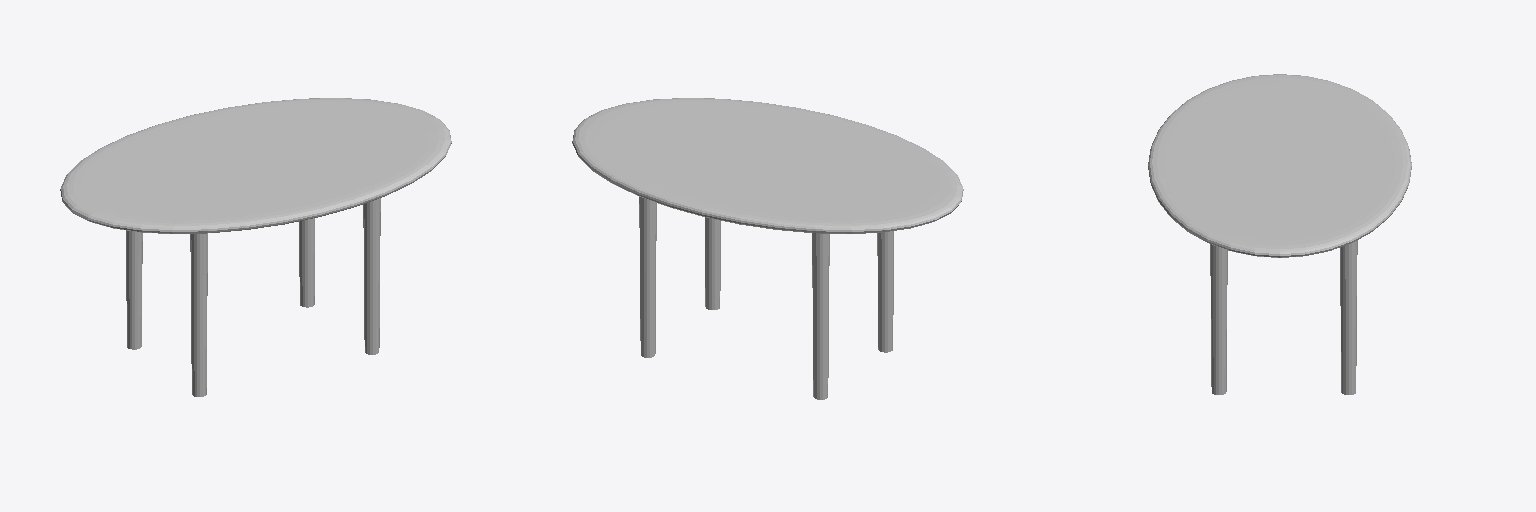
The model's file is Table.obj.
3 views of the same model, side by side, from view 1: azimuth 30°, elevation 25°; view 2: azimuth 150°, elevation 25°; view 3: azimuth 270°, elevation 25° (orthographic).
Parts seen in each view (by area): view 1: Table; view 2: Table; view 3: Table.
Part boxes in pixels (left/top/right/bottom): Table: left=60, top=98, right=451, bottom=396; Table: left=572, top=98, right=963, bottom=399; Table: left=1148, top=74, right=1411, bottom=394.
Bounding box in the file's own units: 2.14 × 1.04 × 1.32.